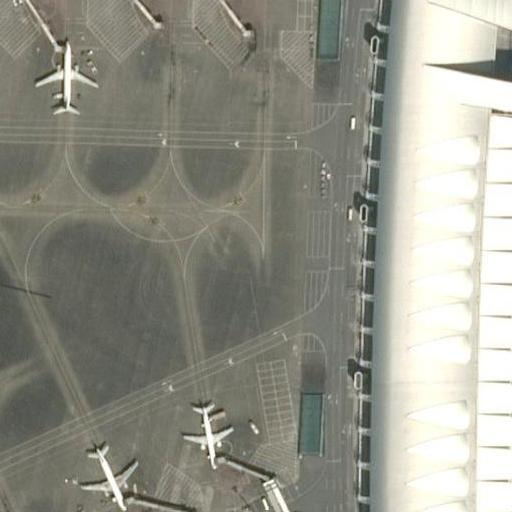Aircraft: (31, 35, 99, 115), (76, 440, 134, 509), (181, 398, 235, 467)
